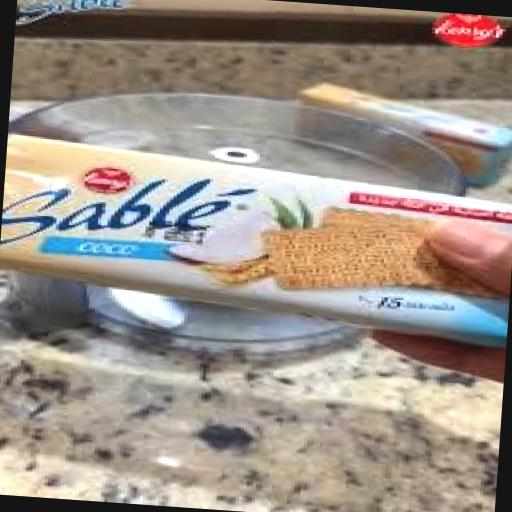sable: (0, 84, 512, 386)
